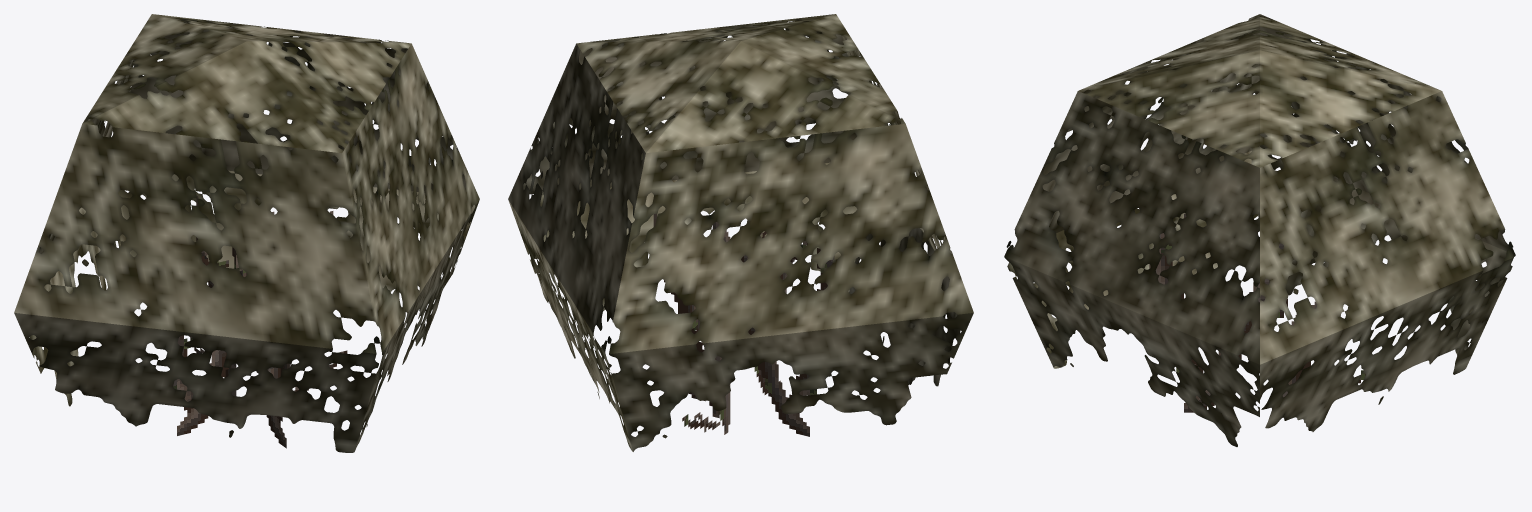
Rendered from bush_end_roots_dead.fbx.
3 views of the same model, side by side, from view 1: azimuth 30°, elevation 25°; view 2: azimuth 150°, elevation 25°; view 3: azimuth 270°, elevation 25° (orthographic). The views are drawn at different scales.
Visible parts, largest first — view 1: bush_end_roots_dead; view 2: bush_end_roots_dead; view 3: bush_end_roots_dead.
Part boxes in pixels (box(x1,y1,x2,y2)): bush_end_roots_dead: box(14, 14, 479, 452); bush_end_roots_dead: box(508, 14, 973, 451); bush_end_roots_dead: box(1004, 14, 1515, 446).
Size of the model in its own units: 139 by 110 by 139.
Materials: 2 (2 with a texture image).
